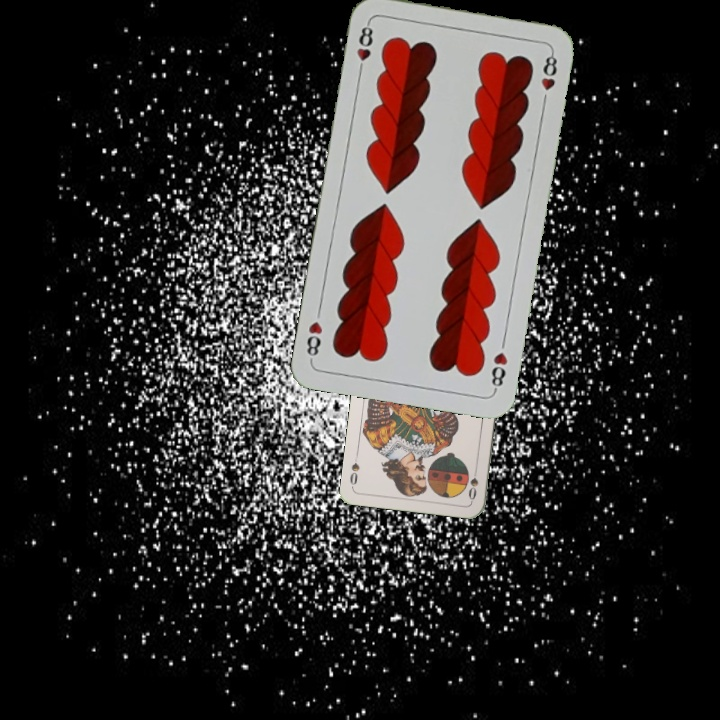H8: (353, 18, 376, 77), (487, 348, 510, 394)
SO: (464, 462, 481, 503)
